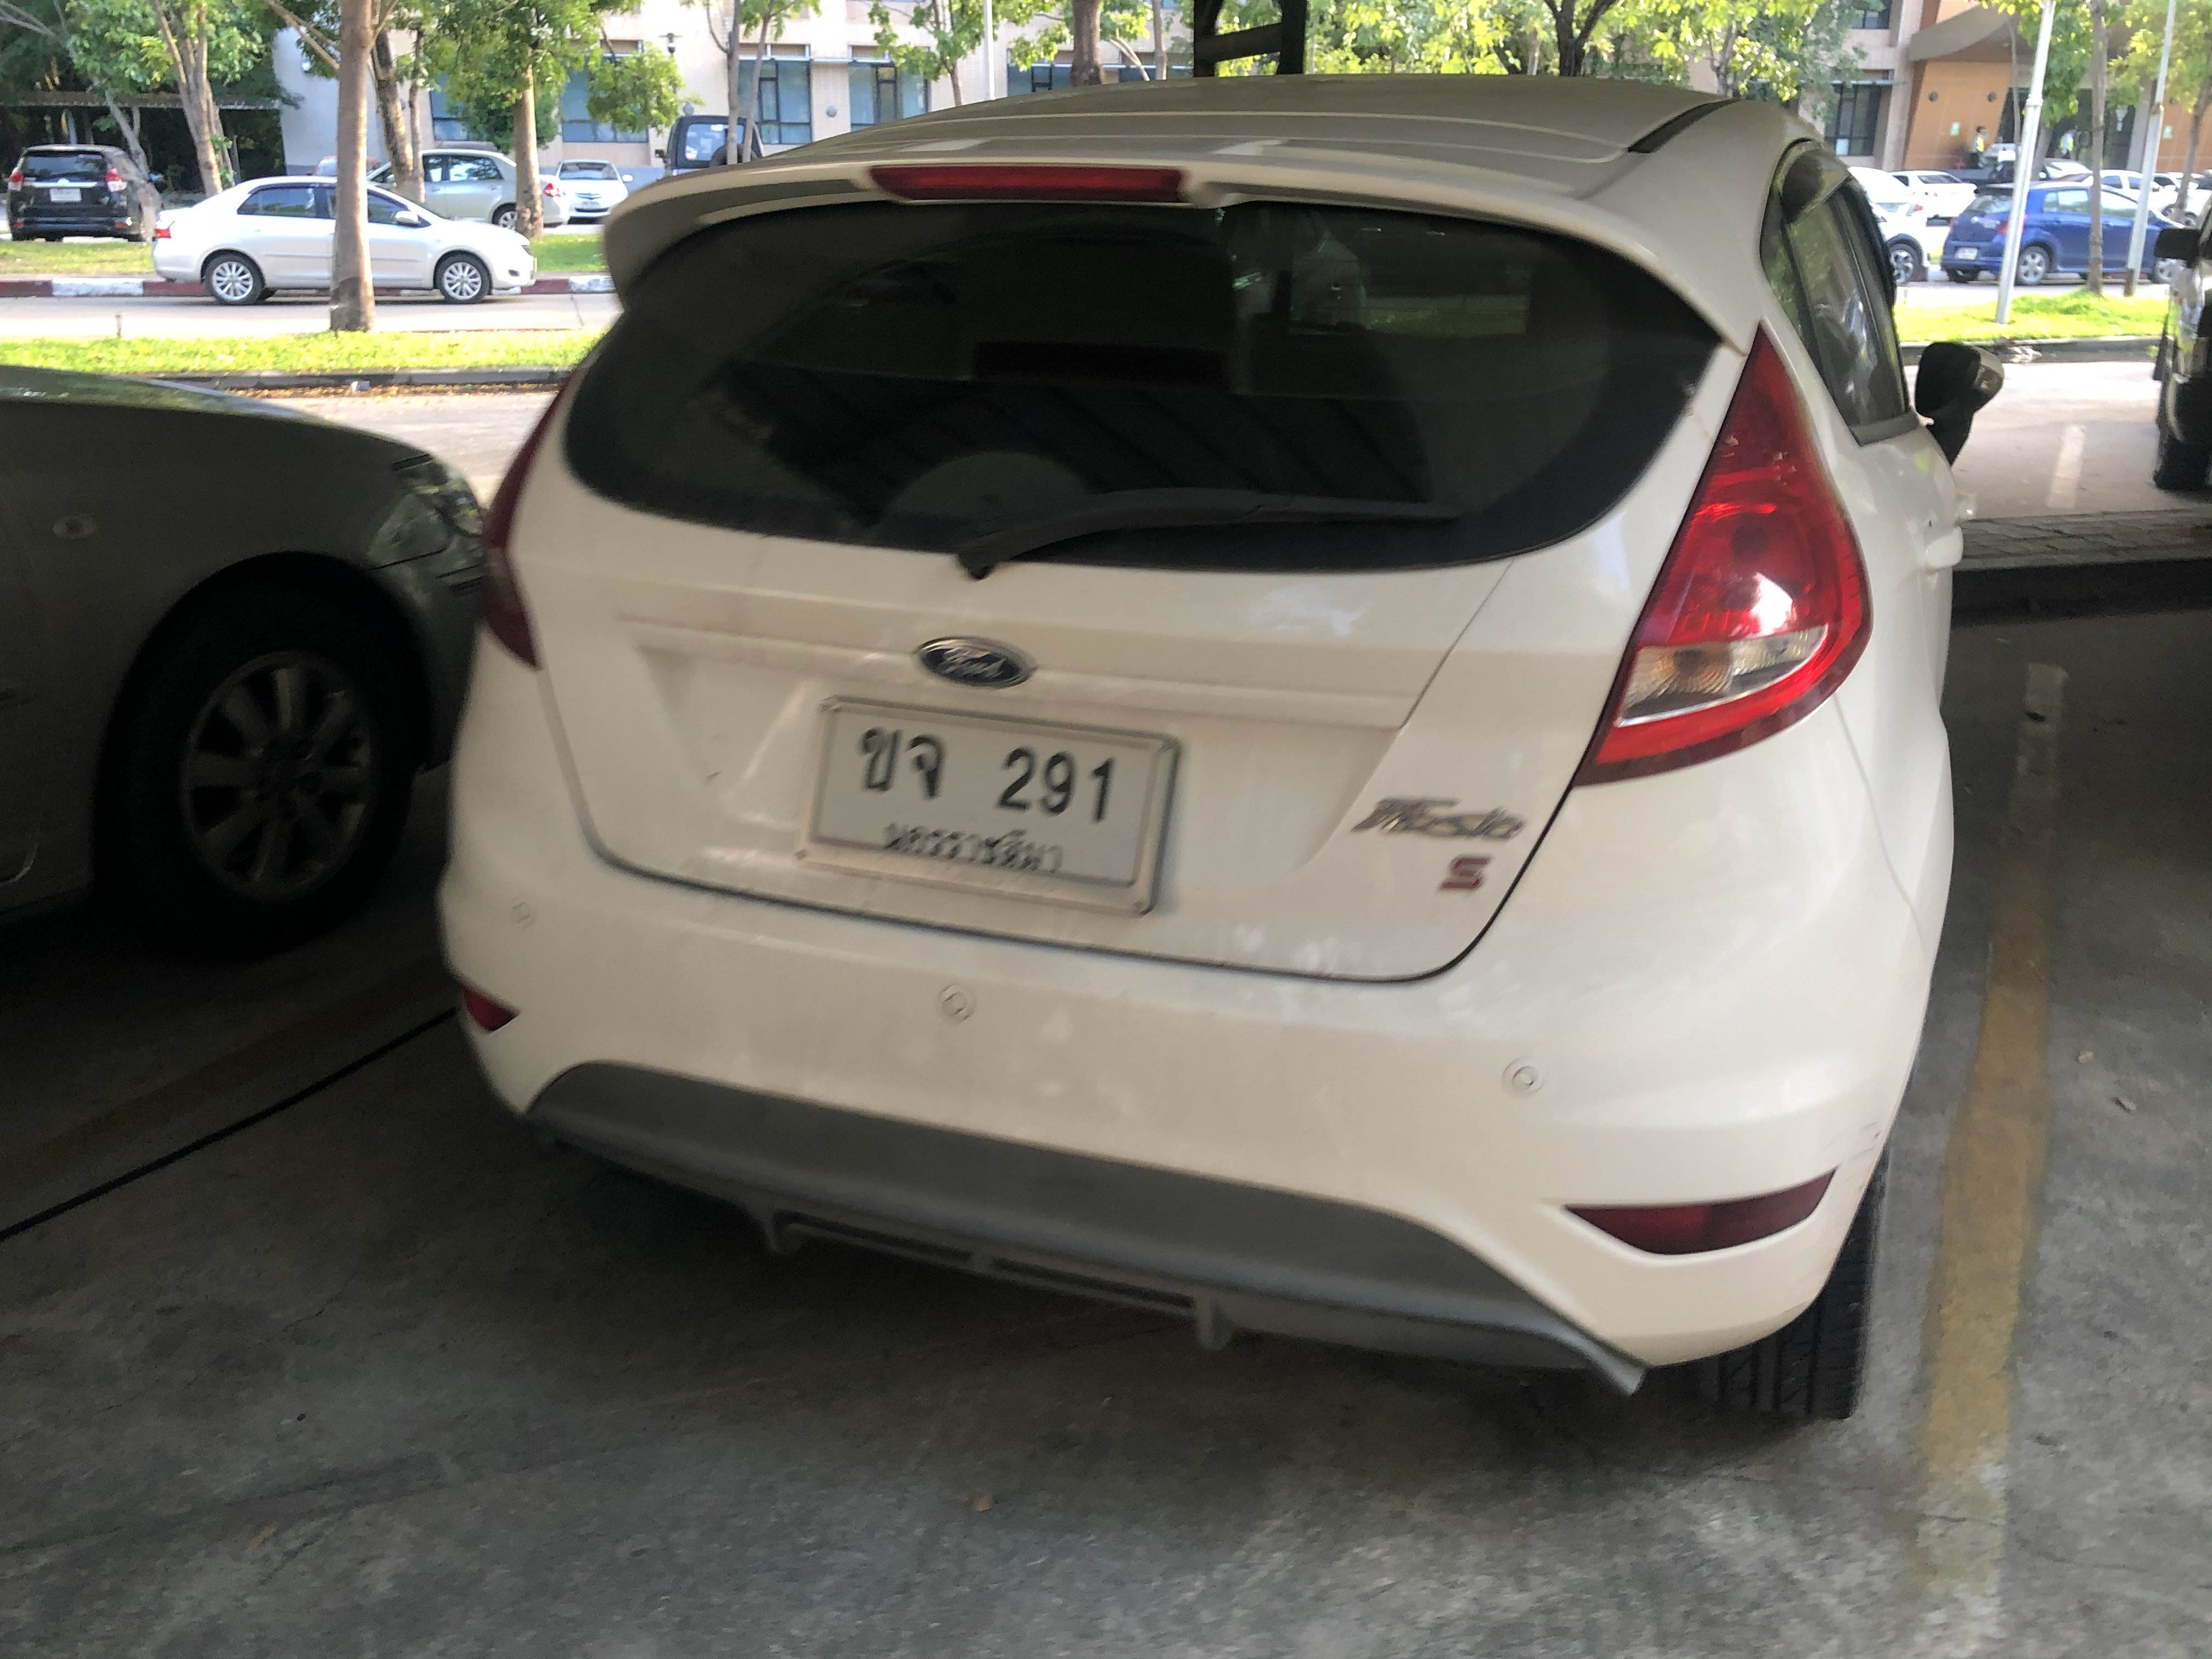in: (817, 704, 1143, 887)
out: (799, 685, 1181, 922)
